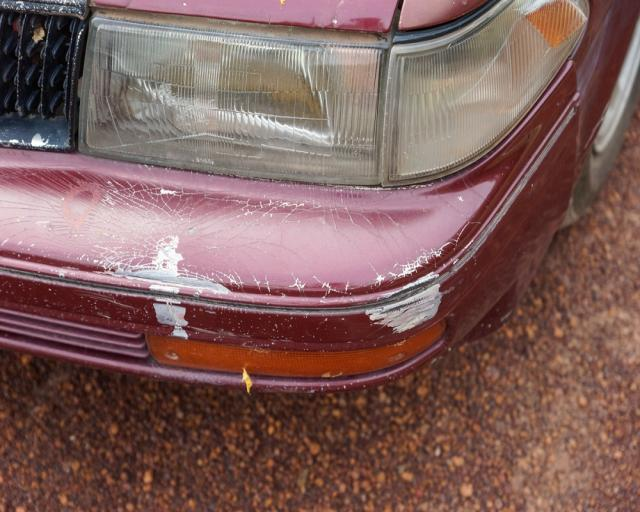scratch: (117, 238, 228, 342), (357, 267, 442, 337)
